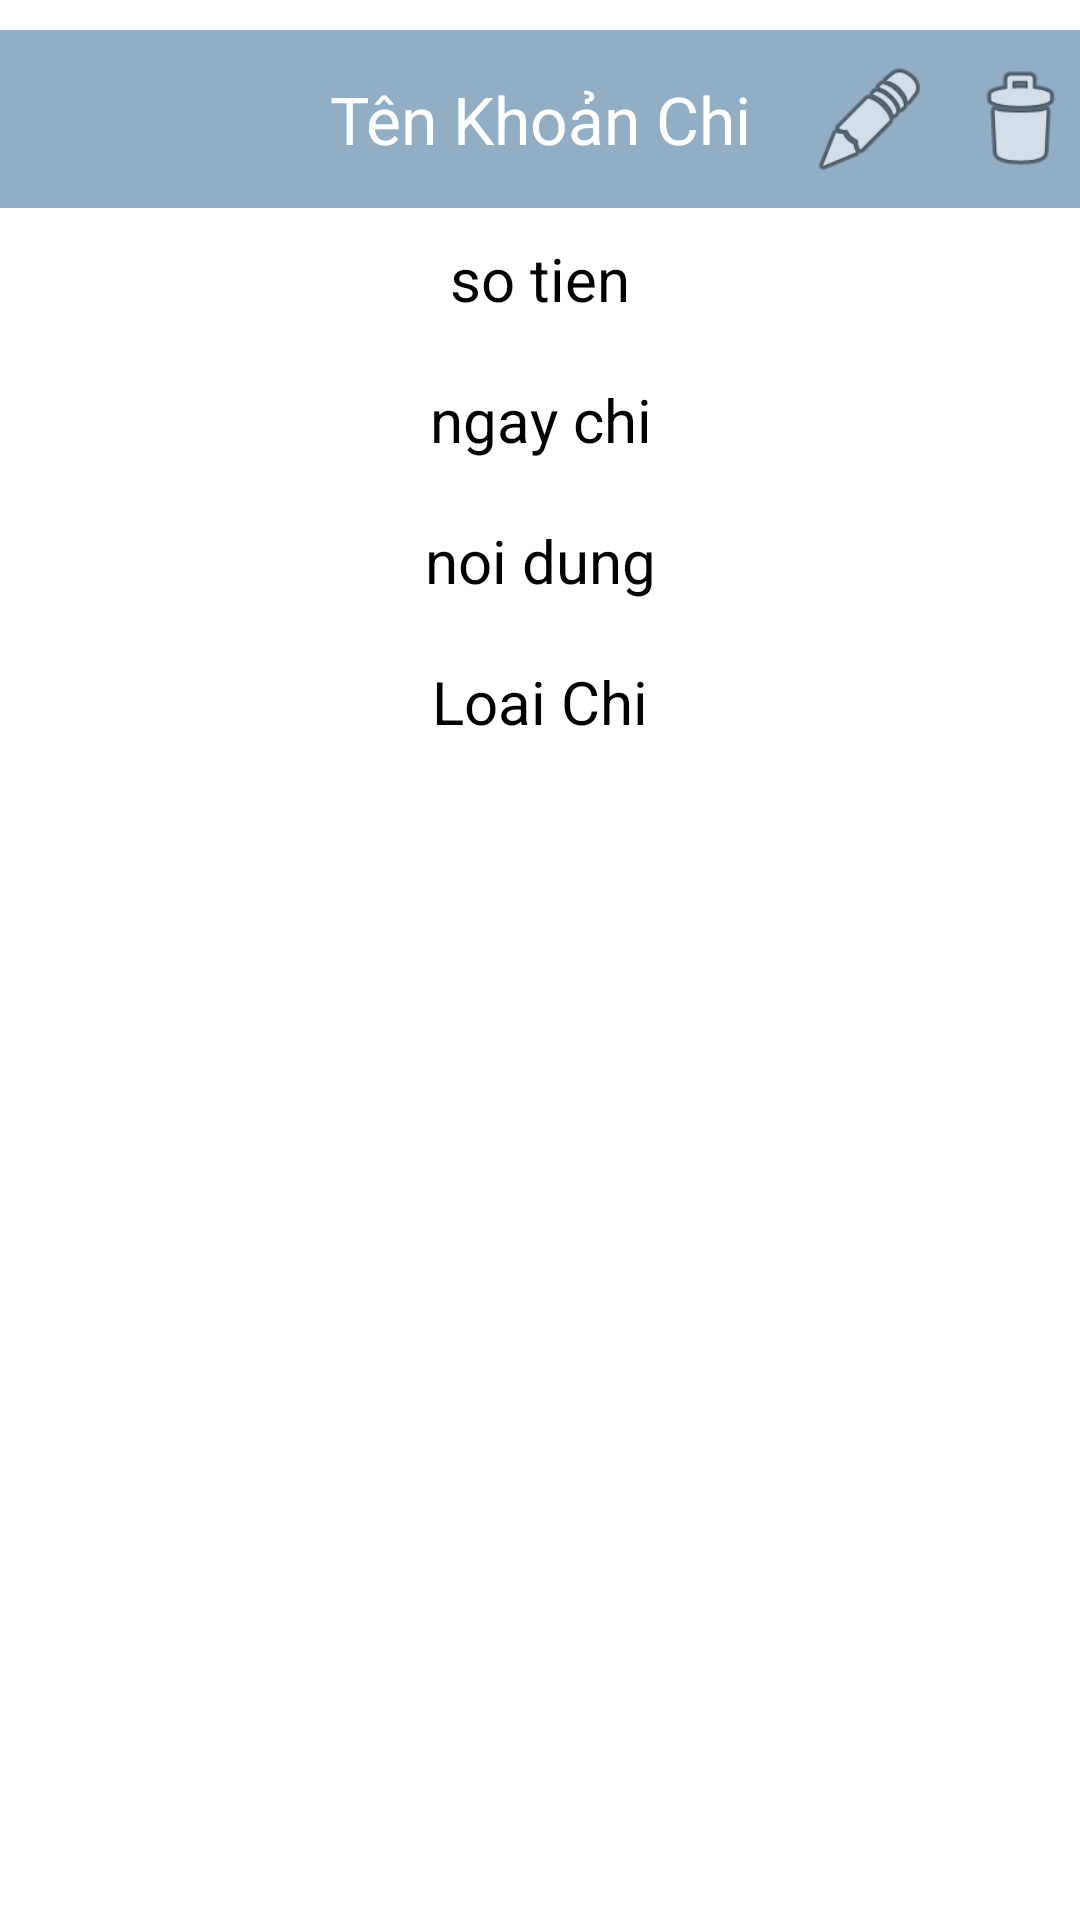

Screen size 1080x1920. Icon name, then its box in pixels as (x1, y1, x2, y2):
delete: (987, 71, 1054, 165)
edit: (819, 68, 920, 170)
